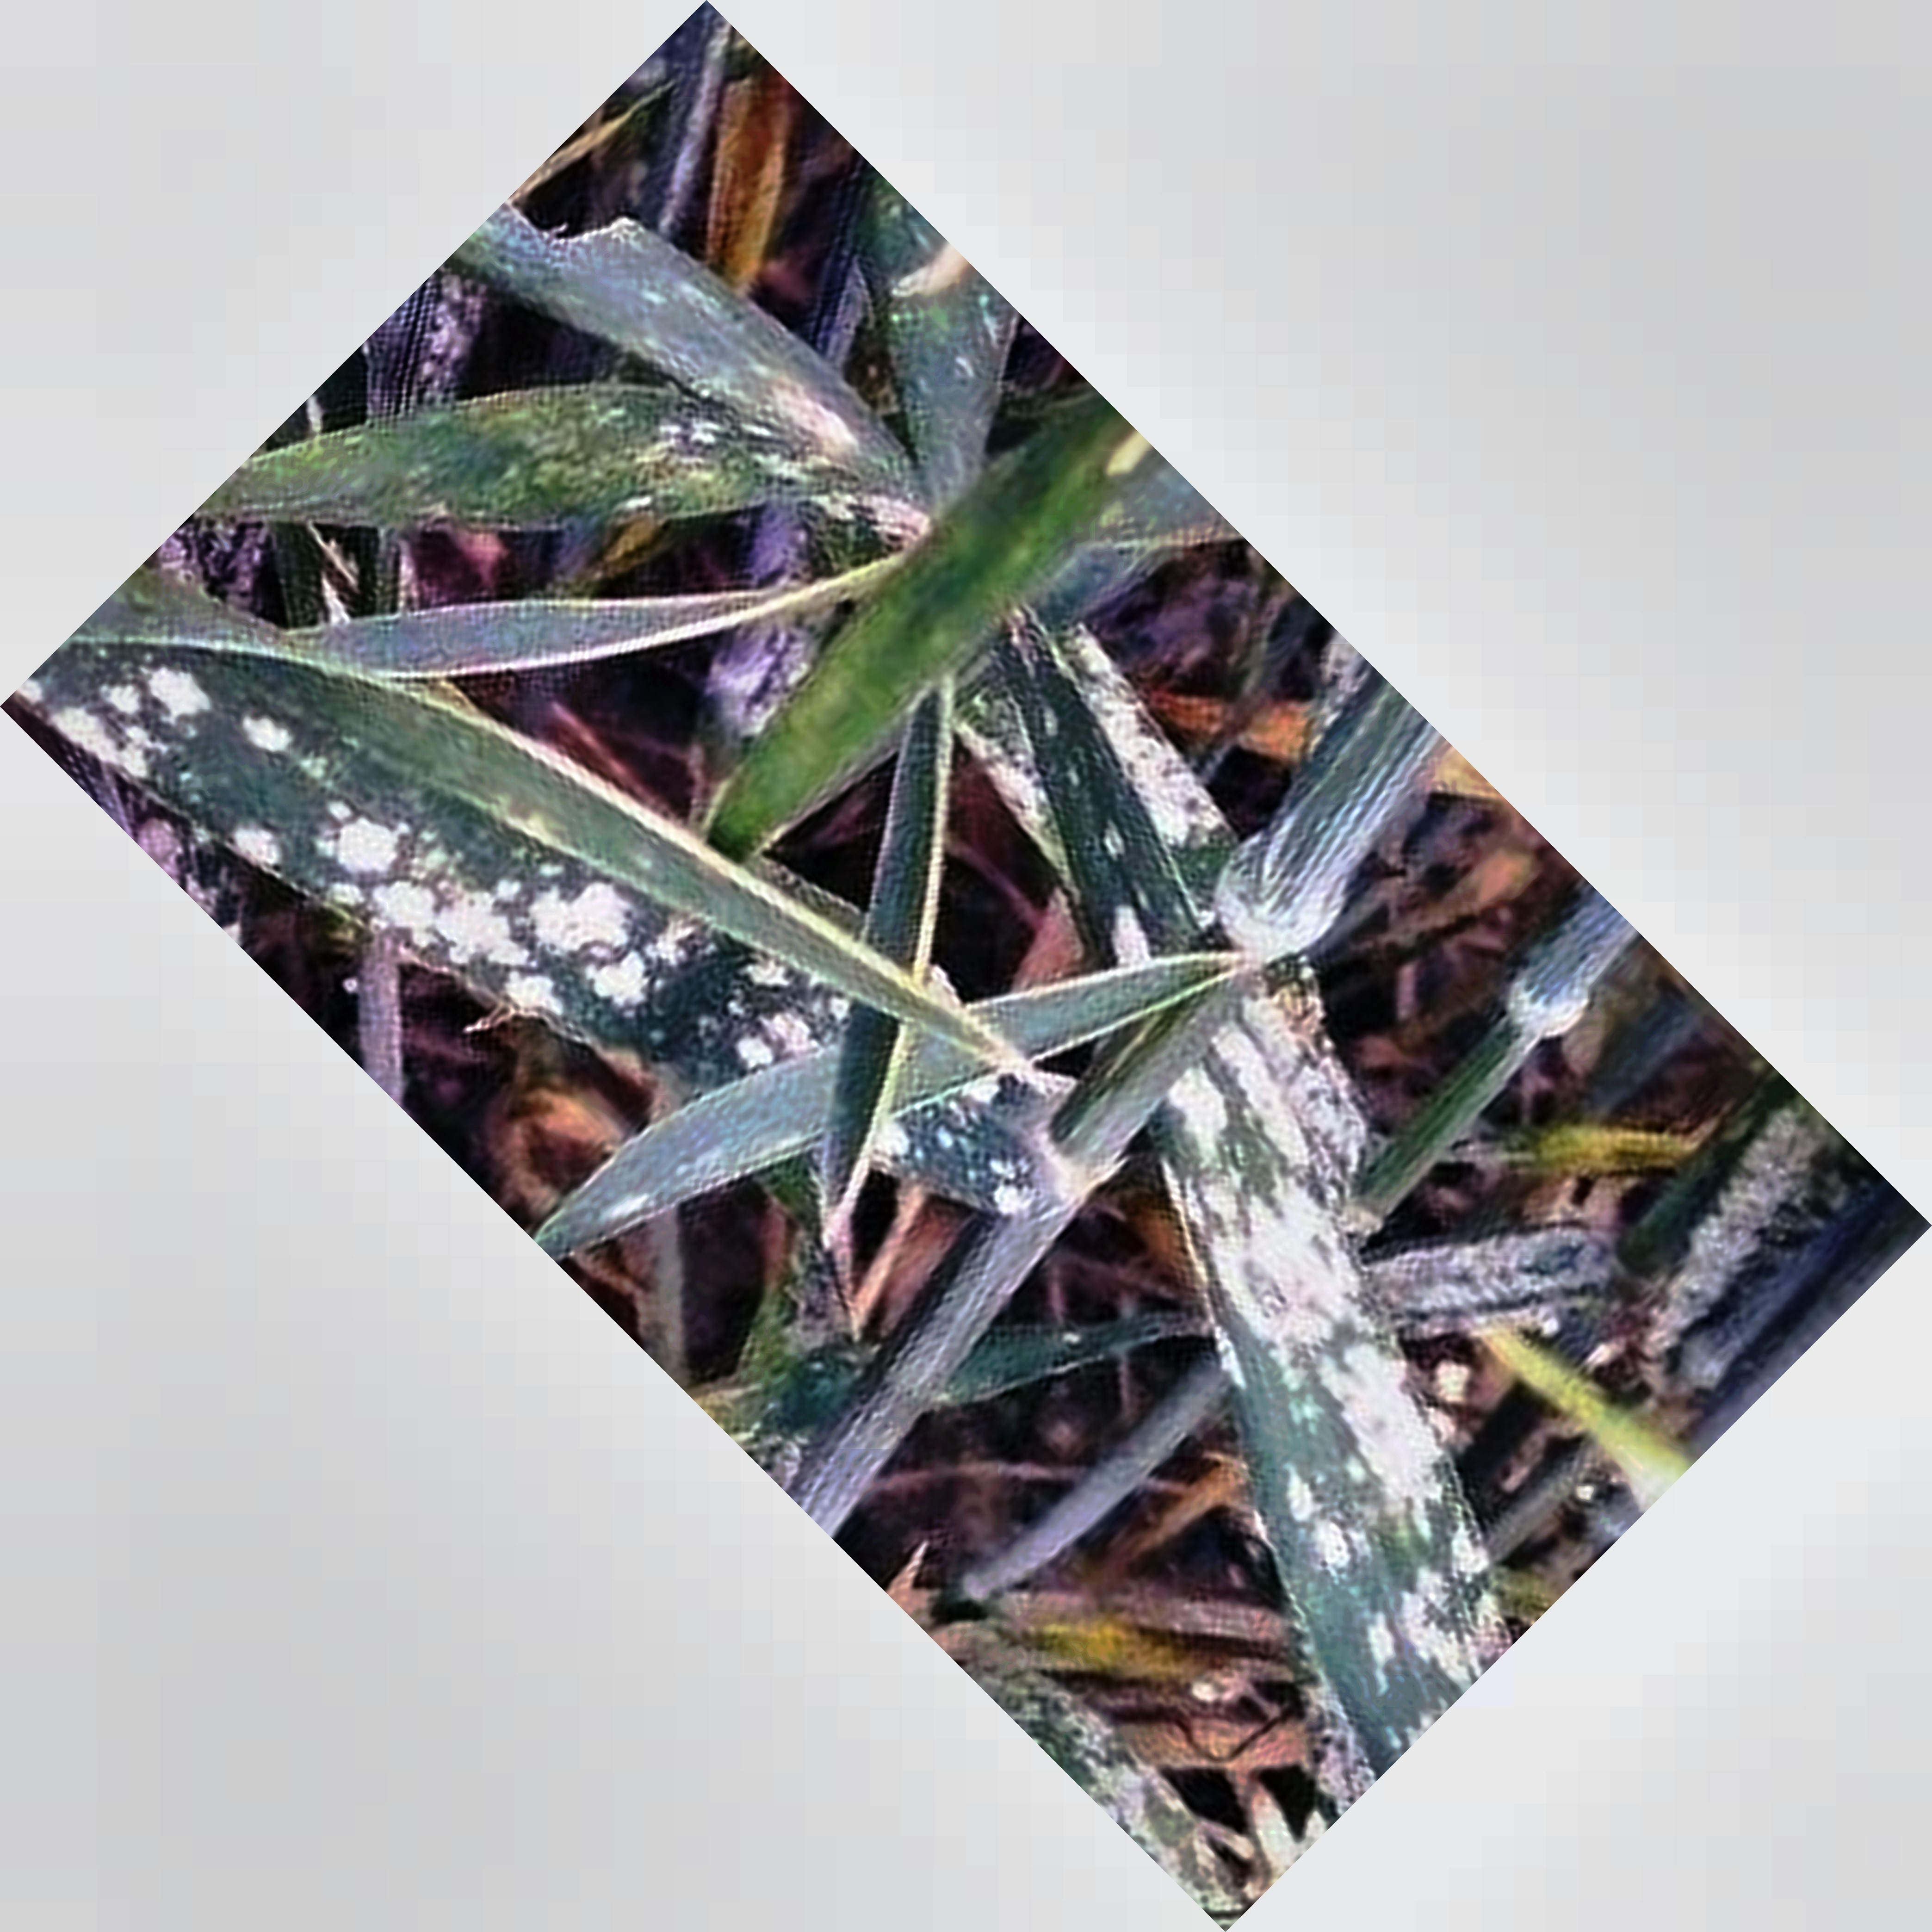Powdery Mildew: (42, 637, 791, 1074), (1159, 1067, 1511, 1672)
